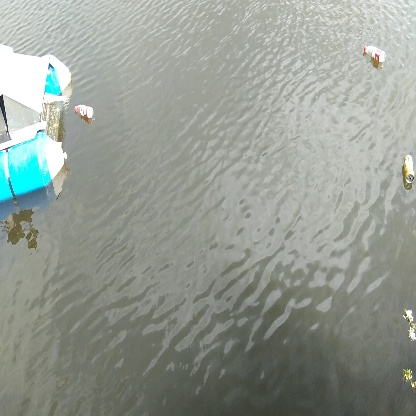bottle: (355, 41, 390, 66), (399, 151, 416, 187), (73, 101, 99, 121)
